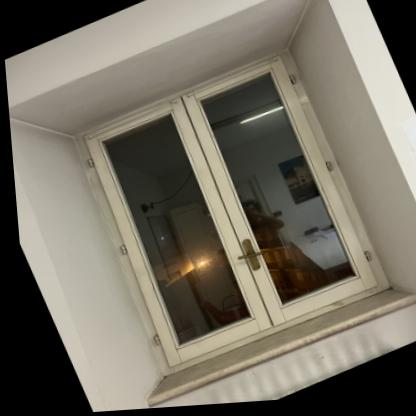Window: (64, 50, 386, 380)
